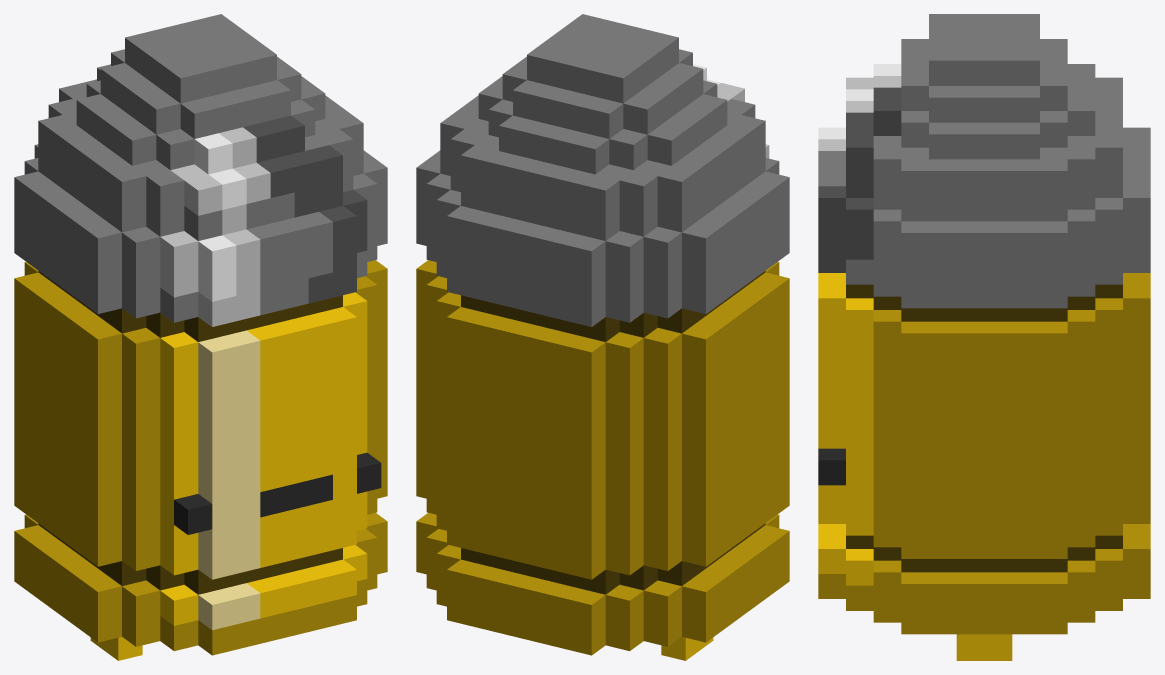
Rendered from bullet_kin.glb.
3 views of the same model, side by side, from view 1: azimuth 30°, elevation 25°; view 2: azimuth 150°, elevation 25°; view 3: azimuth 270°, elevation 25° (orthographic).
Parts seen in each view (by area): view 1: Object_2; view 2: Object_2; view 3: Object_2.
Boxes of the visible parts, bbox=[...] form: Object_2: bbox=[14, 14, 387, 660]; Object_2: bbox=[416, 14, 789, 660]; Object_2: bbox=[818, 14, 1150, 660].
Bounding box in the file's own units: 12 × 23 × 12.
1 material, 1 textured.
